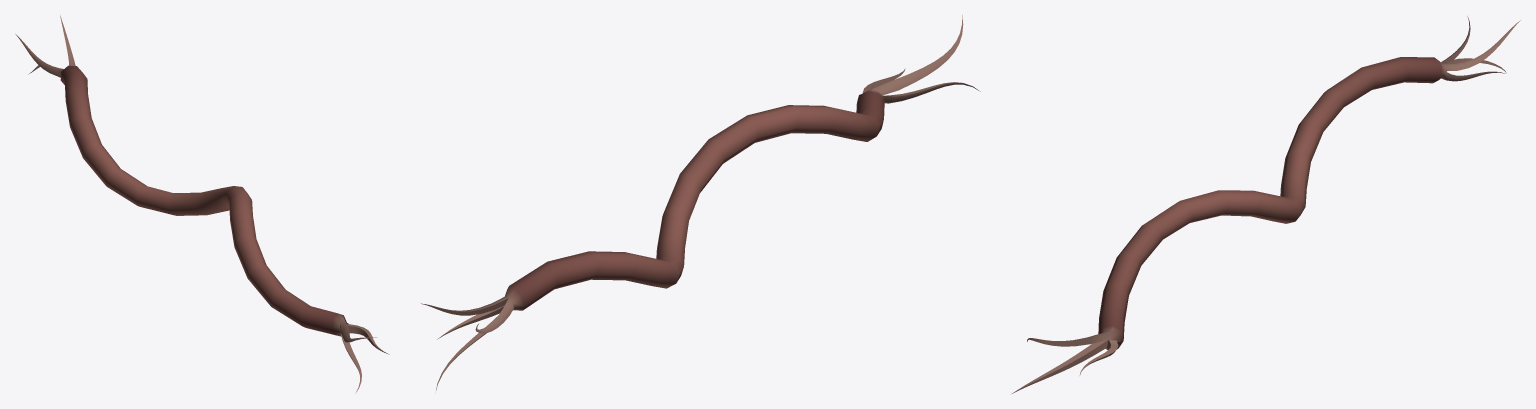
The model's file is microscopic-bacteria-twisted-bacterium_v3.glb.
3 renders of one model, left to right at view 1: azimuth 30°, elevation 25°; view 2: azimuth 150°, elevation 25°; view 3: azimuth 330°, elevation 25°, orthographic. The views are drawn at different scales.
Visible parts, largest first — view 1: Twisted Bacterium_v3; view 2: Twisted Bacterium_v3; view 3: Twisted Bacterium_v3.
Boxes of the visible parts, x1,y1,x2,y2 form: Twisted Bacterium_v3: (15,15,389,393); Twisted Bacterium_v3: (421,15,980,390); Twisted Bacterium_v3: (1012,16,1520,393).
Size of the model in its own units: 0.026 by 0.0233 by 0.2.
